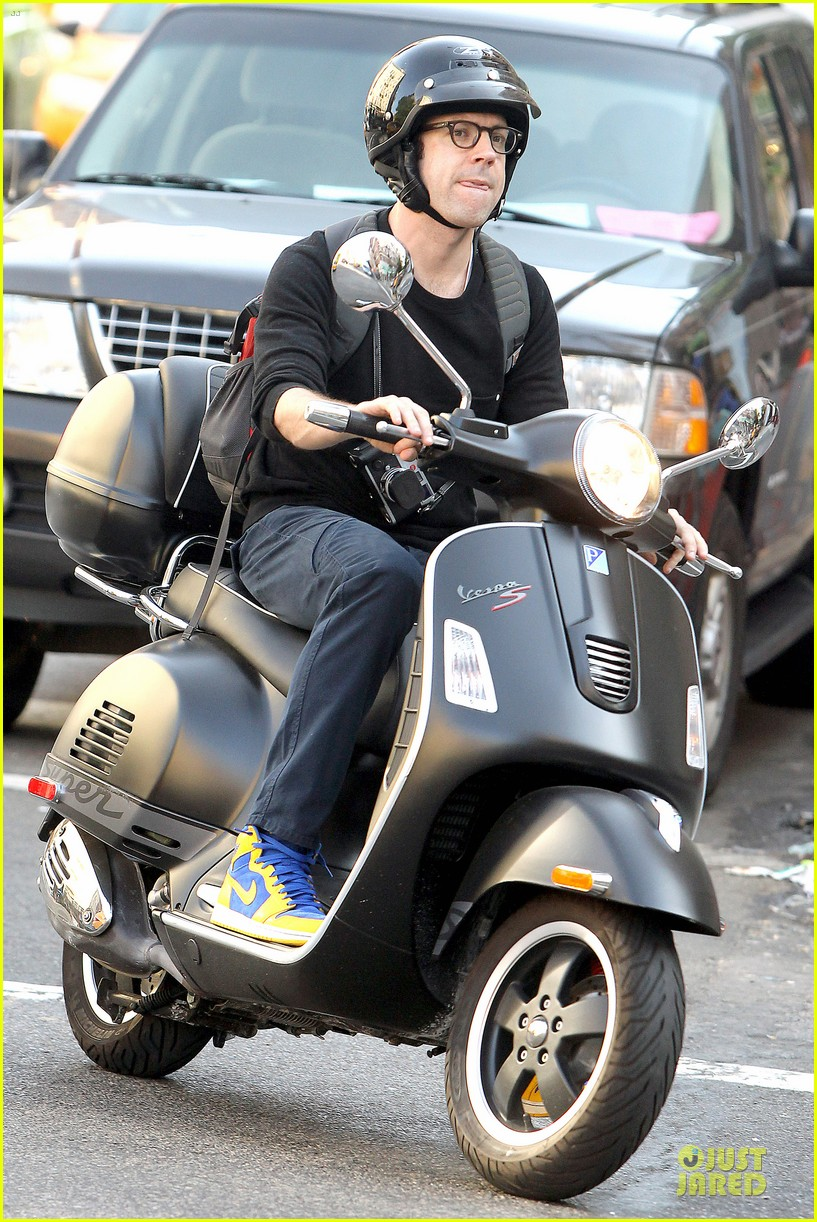helmet: (346, 24, 548, 247)
